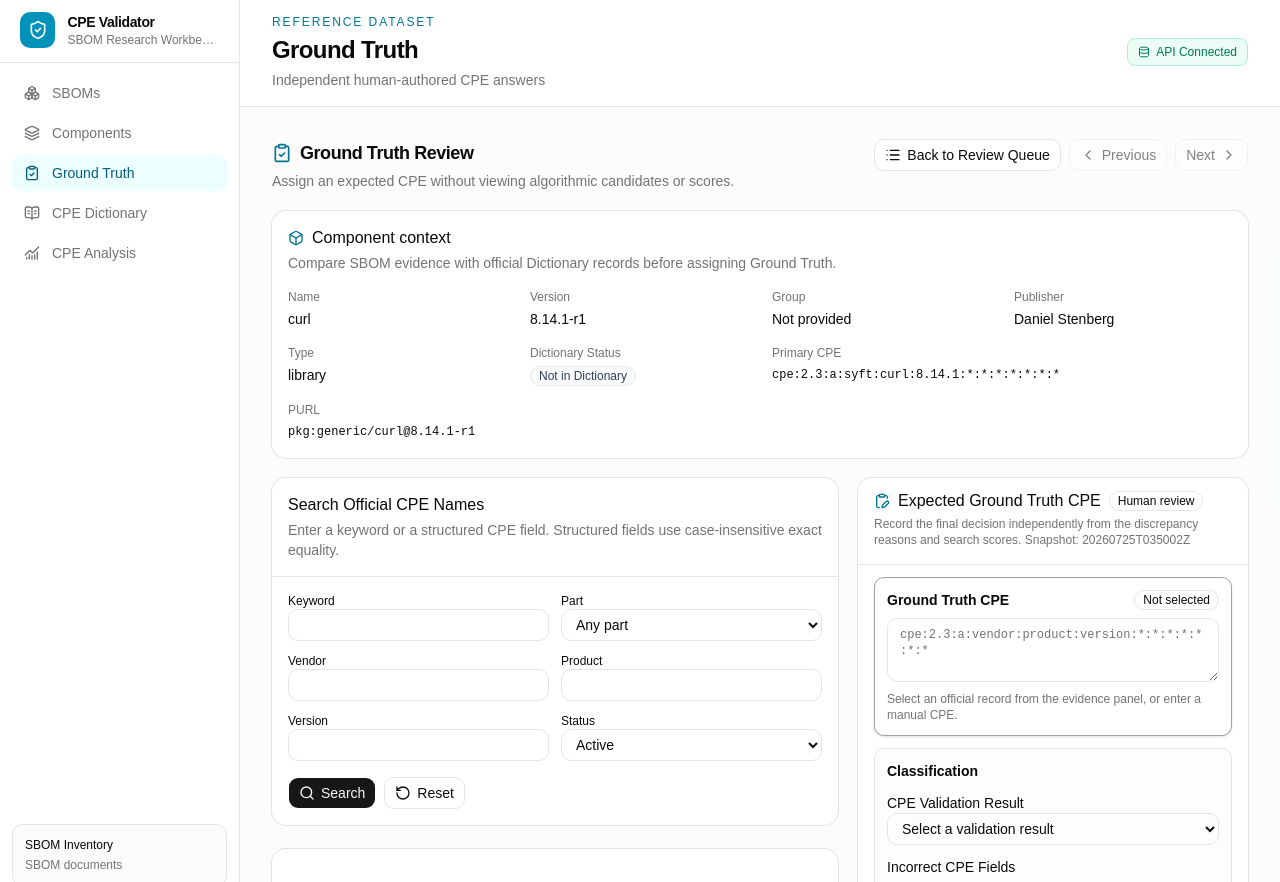
Test case: Ground Truth decision and discrepancy workflow › clears CPE and preserves optional discrepancies for the direct decision
This screenshot has width=1280, height=882.
Select "Unable to Determine" in the dropdown labelled "CPE Validation Result". click: (1053, 829)
box: [887,813,1219,845]
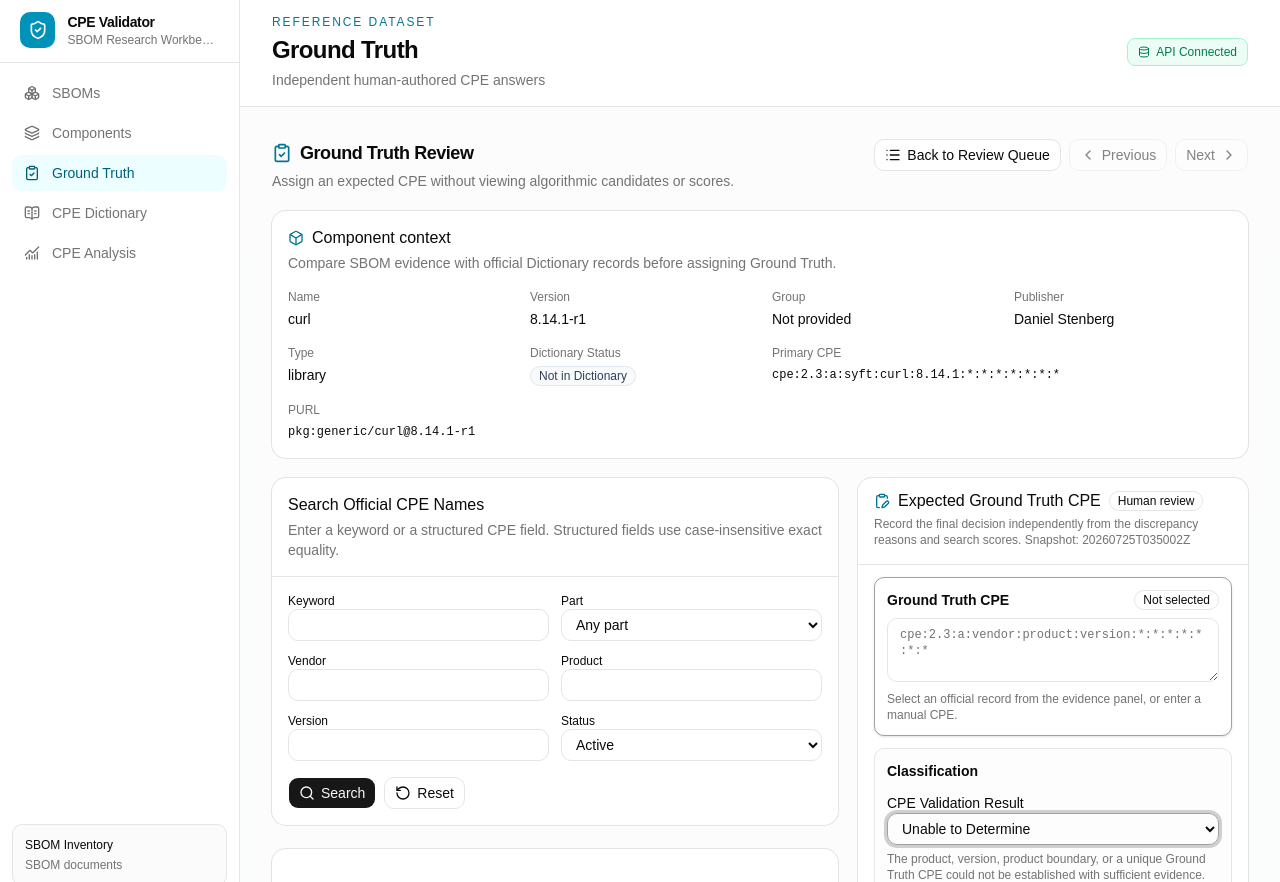
Type "cpe:2.3:a:haxx:curl:8.14.1:*:*:*:*:*:*:*" into the text box named "Manual CPE 2.3". click: (1053, 650)
box: [887,618,1219,682]
(page scrolled)
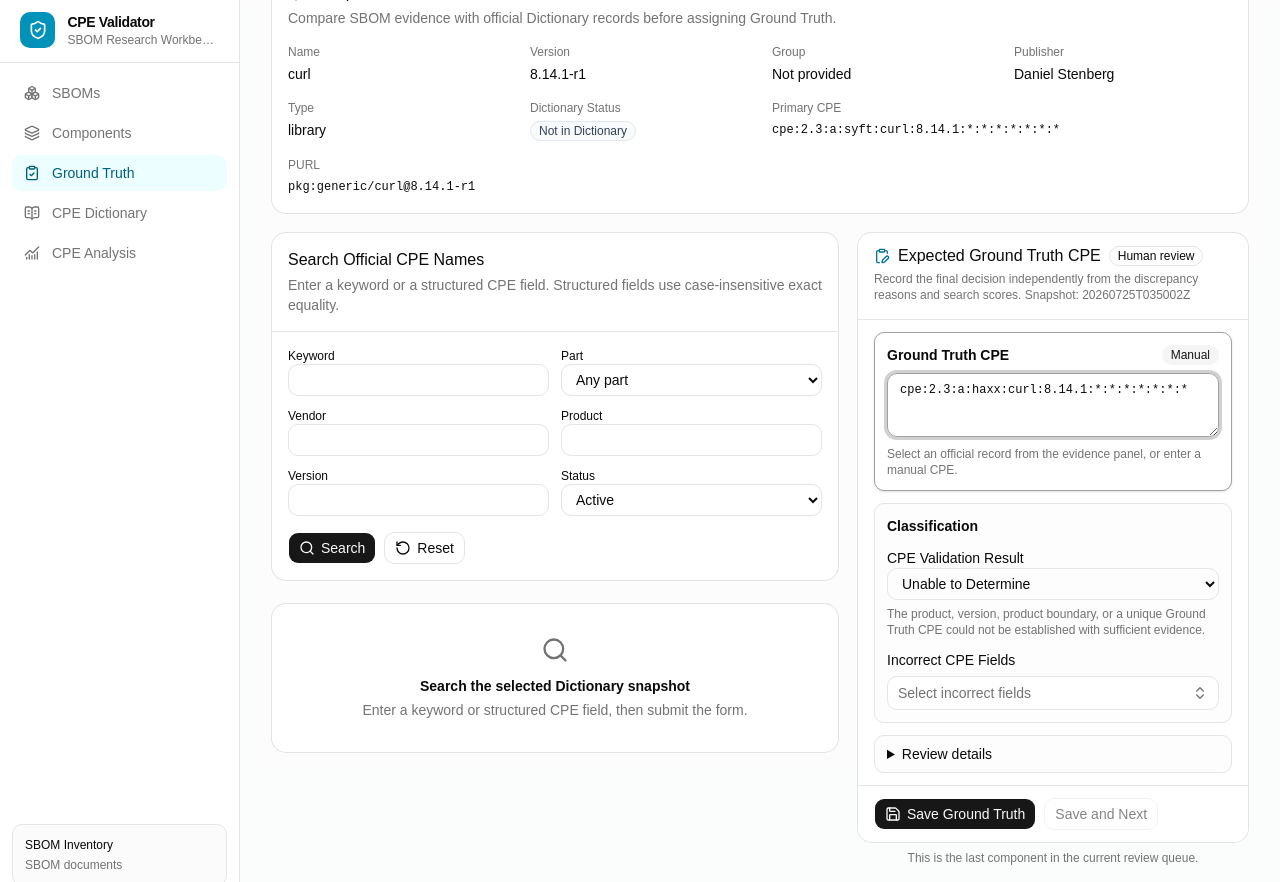
Click the button with aria-label "Incorrect CPE Fields:". click: click(965, 693)
box: [887,676,1219,710]
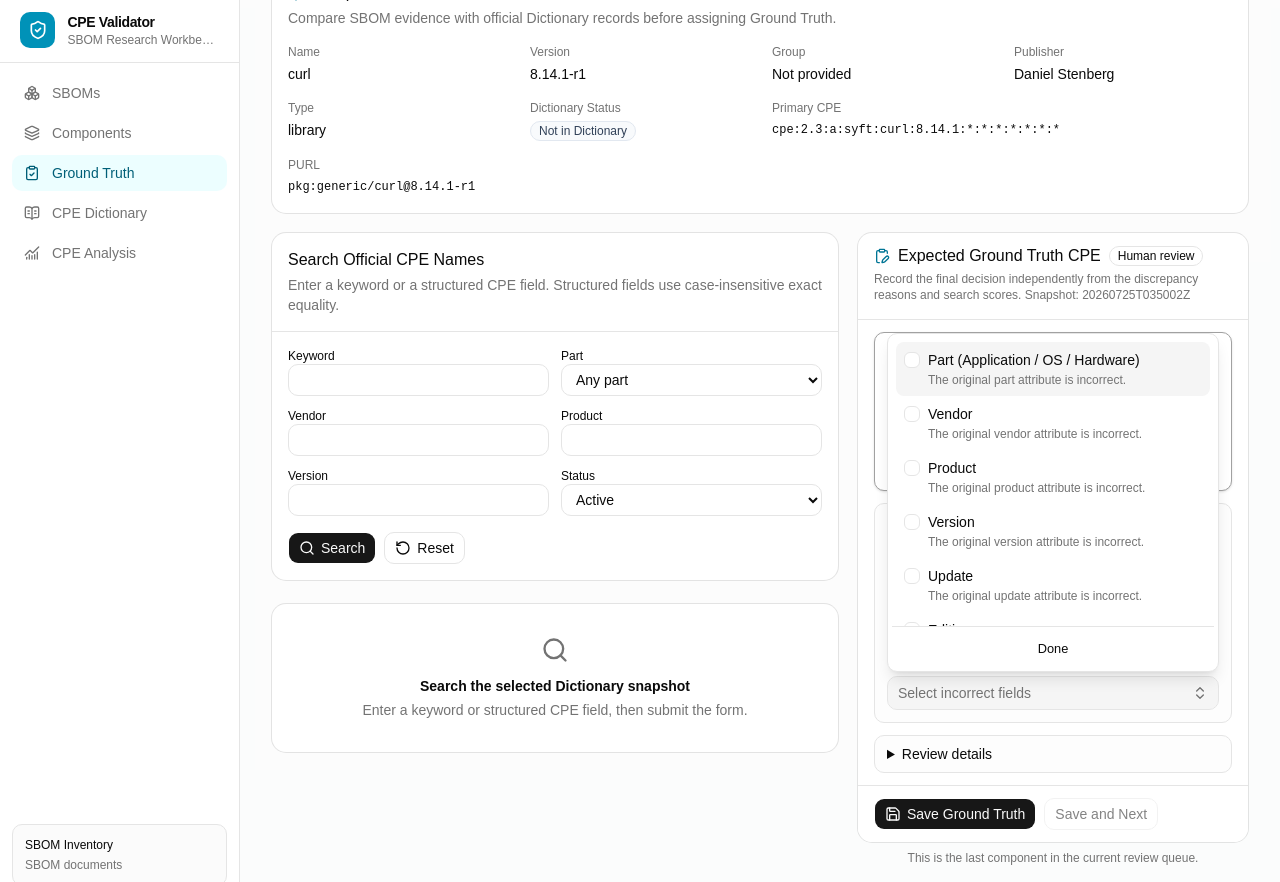
Result: the dialog named "Incorrect CPE Field options" is shown at [887,333,1219,672]
Click the checkbox labelled "Vendor The original vendor attribute is incorrect.". click: click(950, 414)
box: [904,406,1142,441]
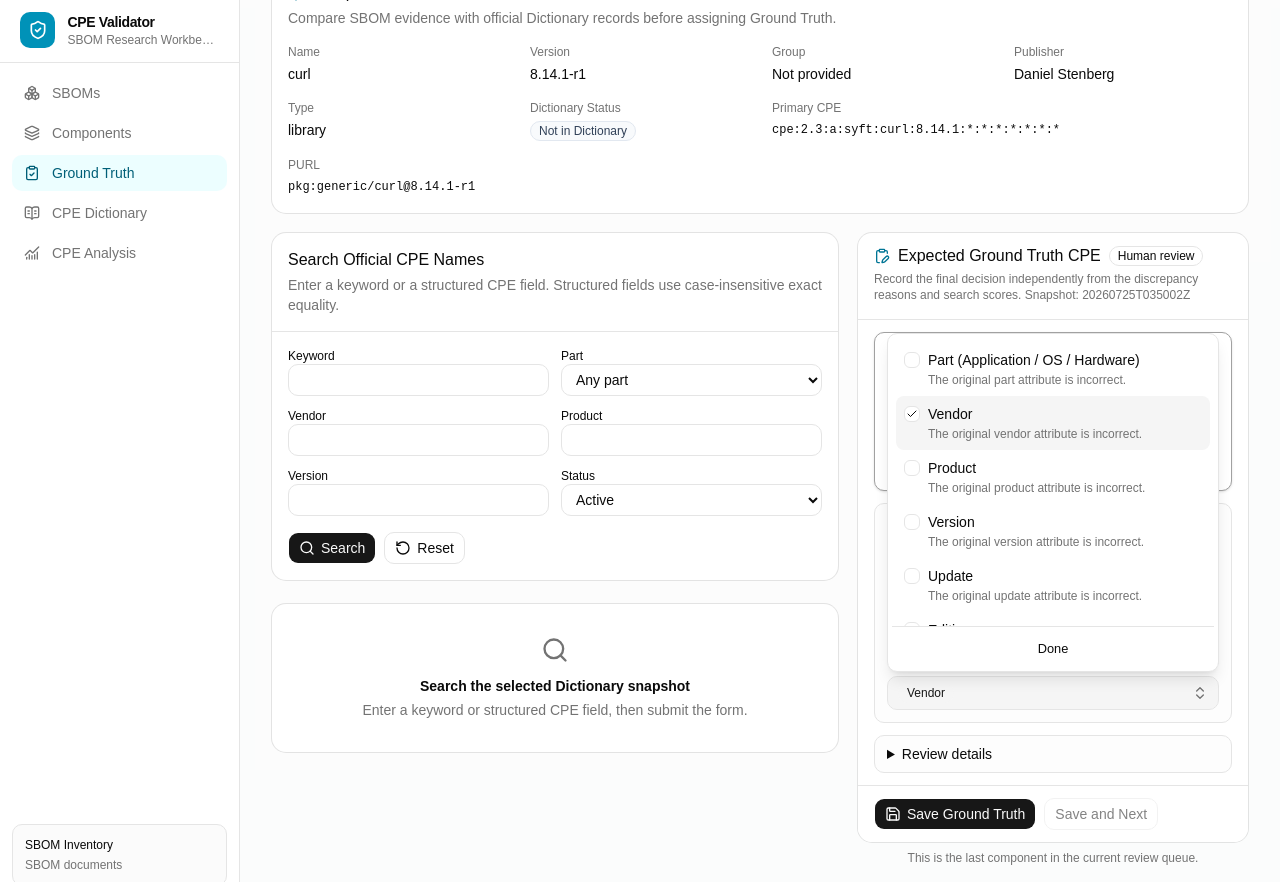
Click the button "Done". click: click(1053, 649)
box: [896,635,1210,663]
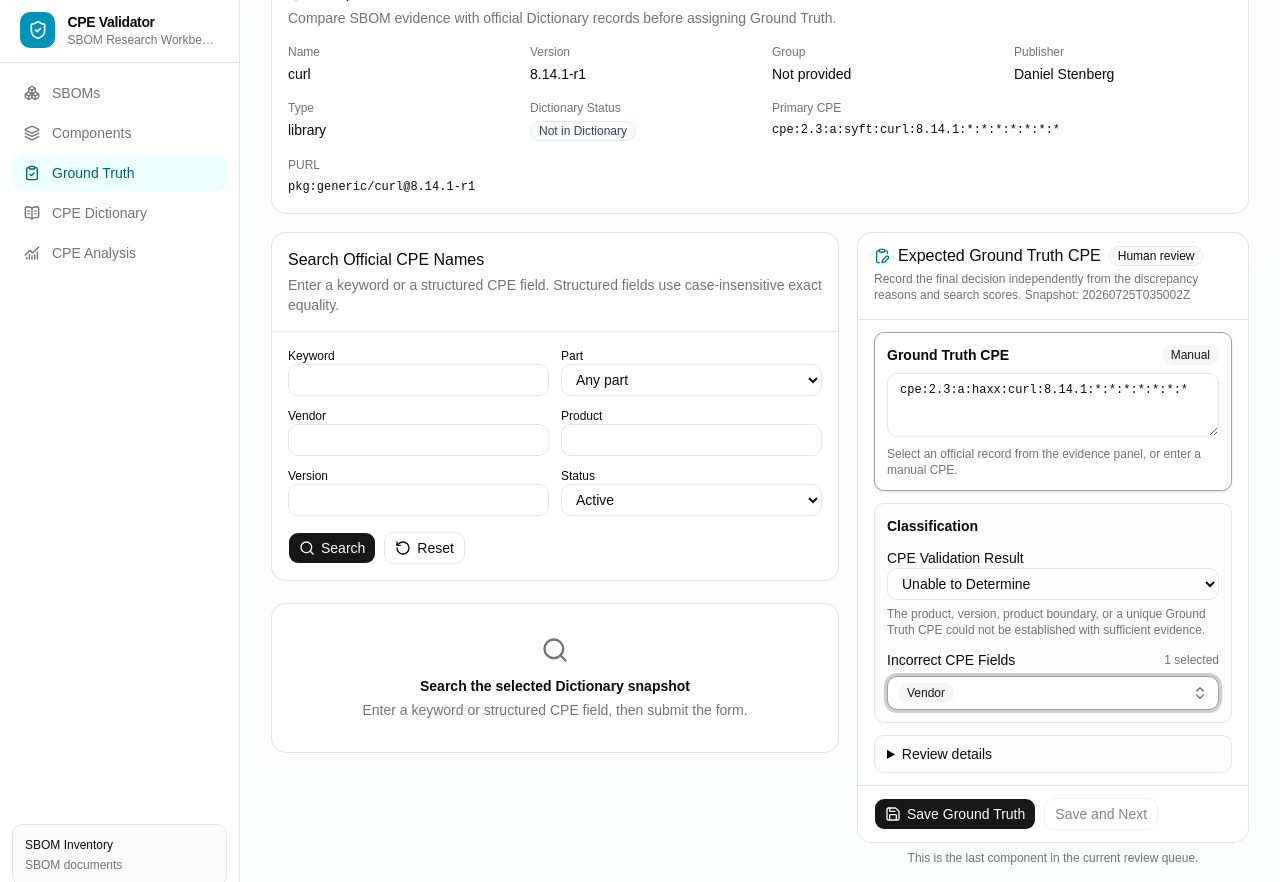
Select "No Direct CPE Found" in the dropdown labelled "CPE Validation Result". click: (1053, 584)
box: [887,568,1219,600]
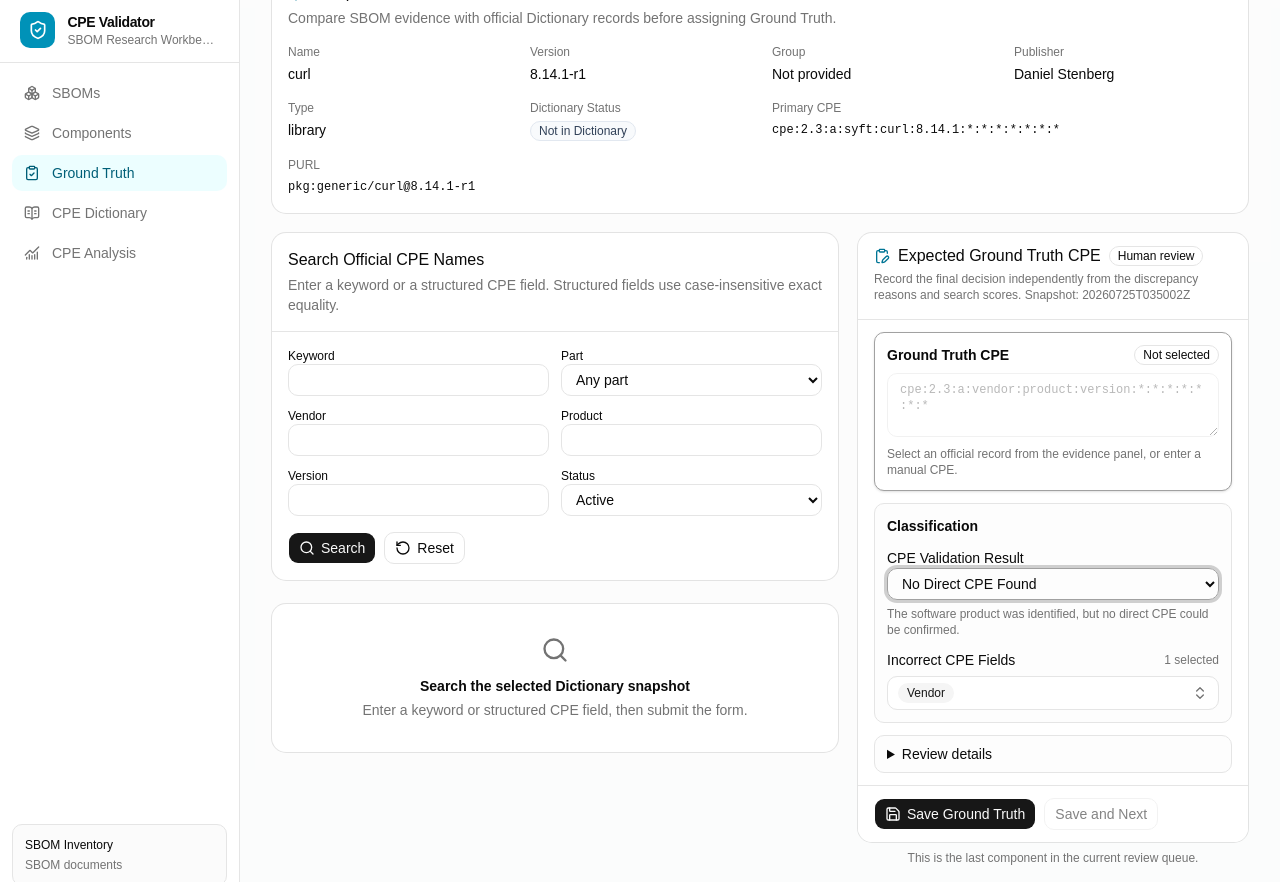
Result: the button with aria-label "Incorrect CPE Fields: Vendor" is shown at [887,676,1219,710]
Result: the text box with placeholder "cpe:2.3:a:vendor:product:version:*:*:*:*:*:*:*" is empty at [887,373,1219,437]
Result: the text box with placeholder "cpe:2.3:a:vendor:product:version:*:*:*:*:*:*:*" is disabled at [887,373,1219,437]
